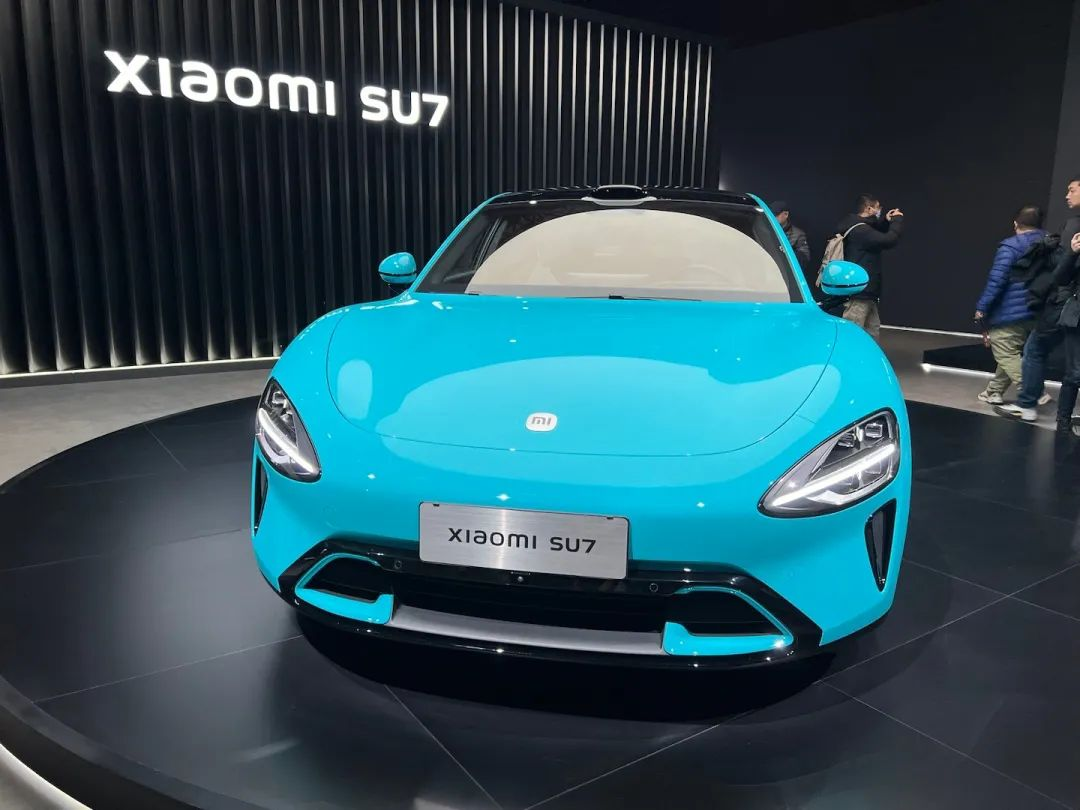su7: (243, 156, 920, 716)
